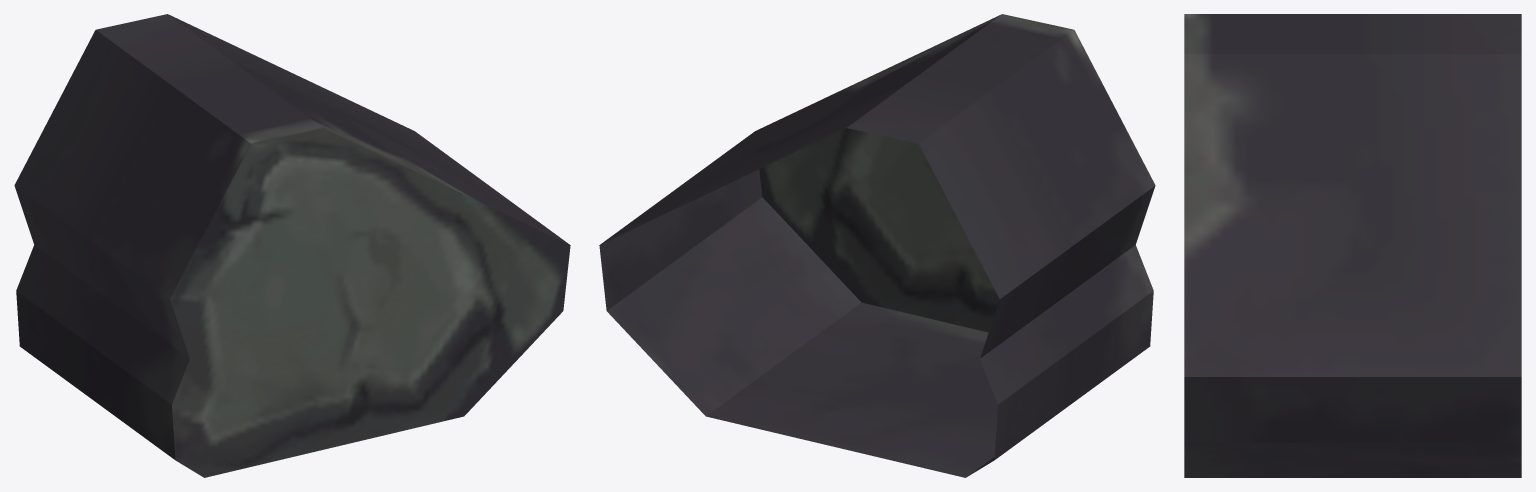
Rendered from yw_shanlin_doorstones_22.FBX.
3 renders of one model, left to right at view 1: azimuth 30°, elevation 25°; view 2: azimuth 150°, elevation 25°; view 3: azimuth 270°, elevation 25°, orthographic. The views are drawn at different scales.
Parts seen in each view (by area): view 1: yw_shanlin_doorstones_22; view 2: yw_shanlin_doorstones_22; view 3: yw_shanlin_doorstones_22.
Boxes of the visible parts, x1=… form: yw_shanlin_doorstones_22: x1=14, y1=14, x2=570, y2=477; yw_shanlin_doorstones_22: x1=599, y1=14, x2=1155, y2=477; yw_shanlin_doorstones_22: x1=1184, y1=14, x2=1521, y2=477.
Bounding box in the file's own units: 31.74 × 24.59 × 21.38.
